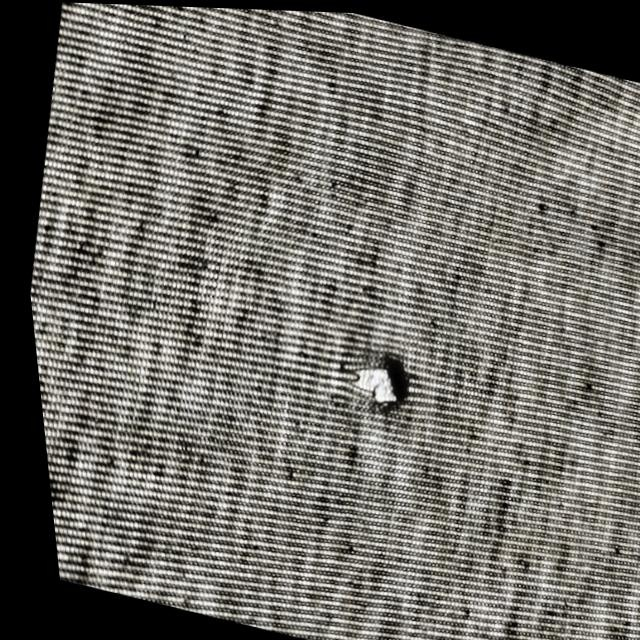Hole: (325, 331, 424, 434)
